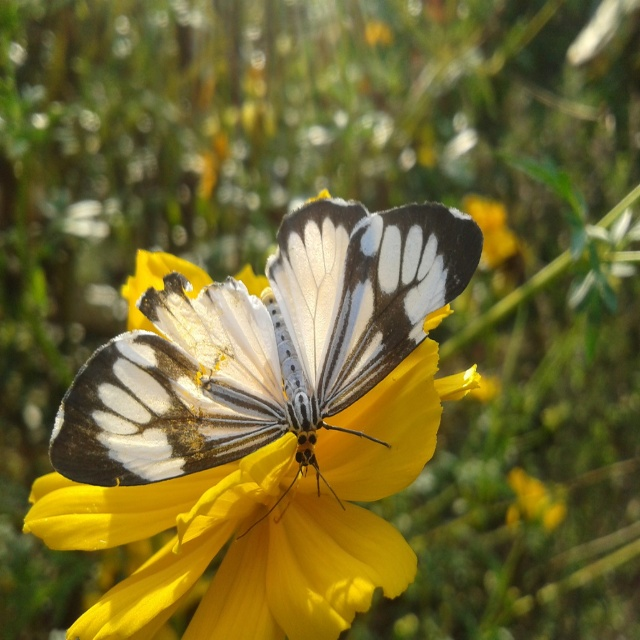Butterfly: (48, 196, 483, 541)
